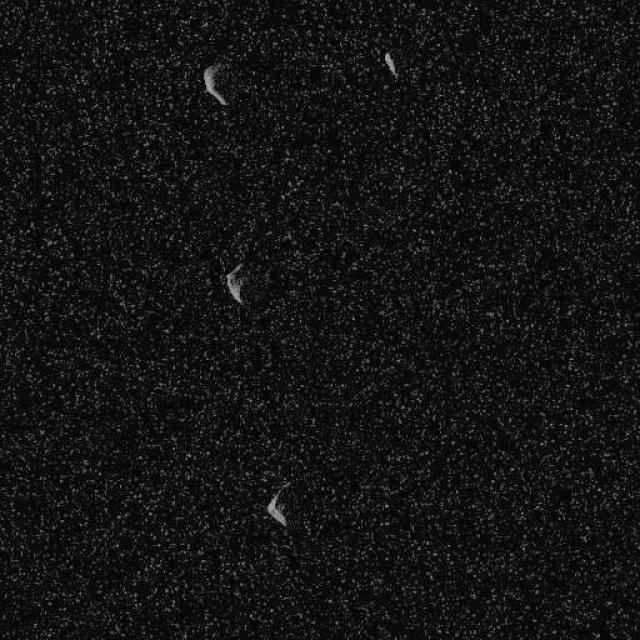D2: (201, 62, 230, 106), (265, 480, 291, 528), (222, 261, 246, 304), (381, 50, 399, 78)
